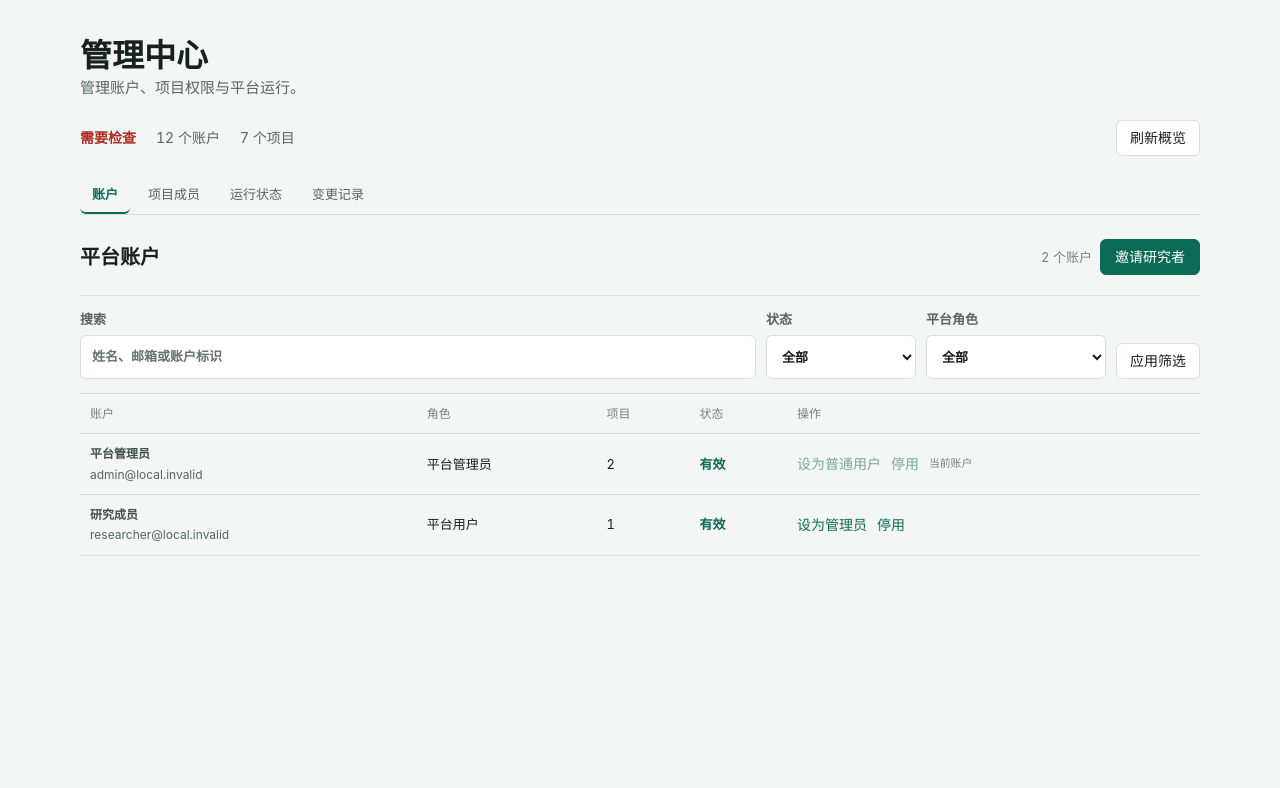
maps queue, stale Job and worker alerts to the bounded runbook surface
The image size is (1280, 788).
Click the tab "运行状态": (256, 195) [218,176,294,214]
(page scrolled)
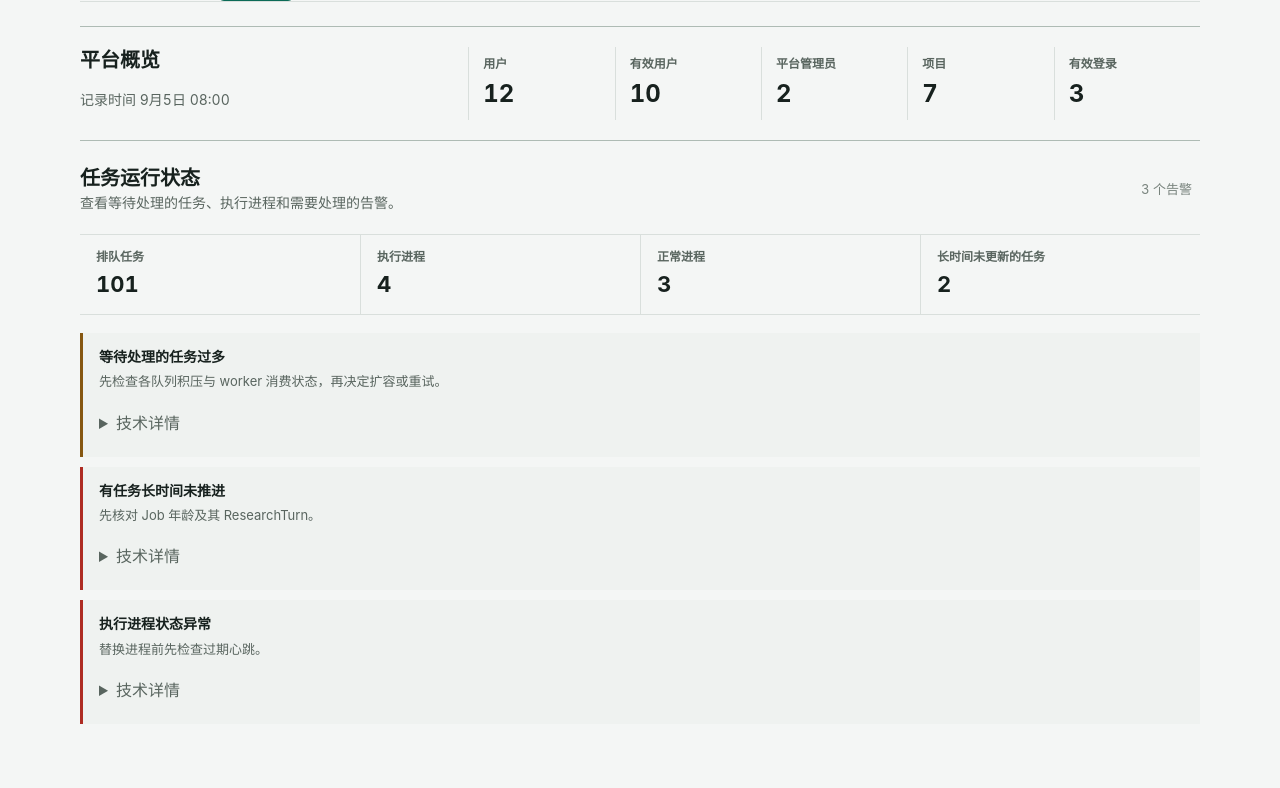
Check: the text "3 个告警" is shown, box [1141,180,1192,199]
Check: the list named "运行告警与处置建议" shows "等待处理的任务过多", box [99,348,225,365]
Check: the list named "运行告警与处置建议" shows "有任务长时间未推进", box [99,482,225,499]
